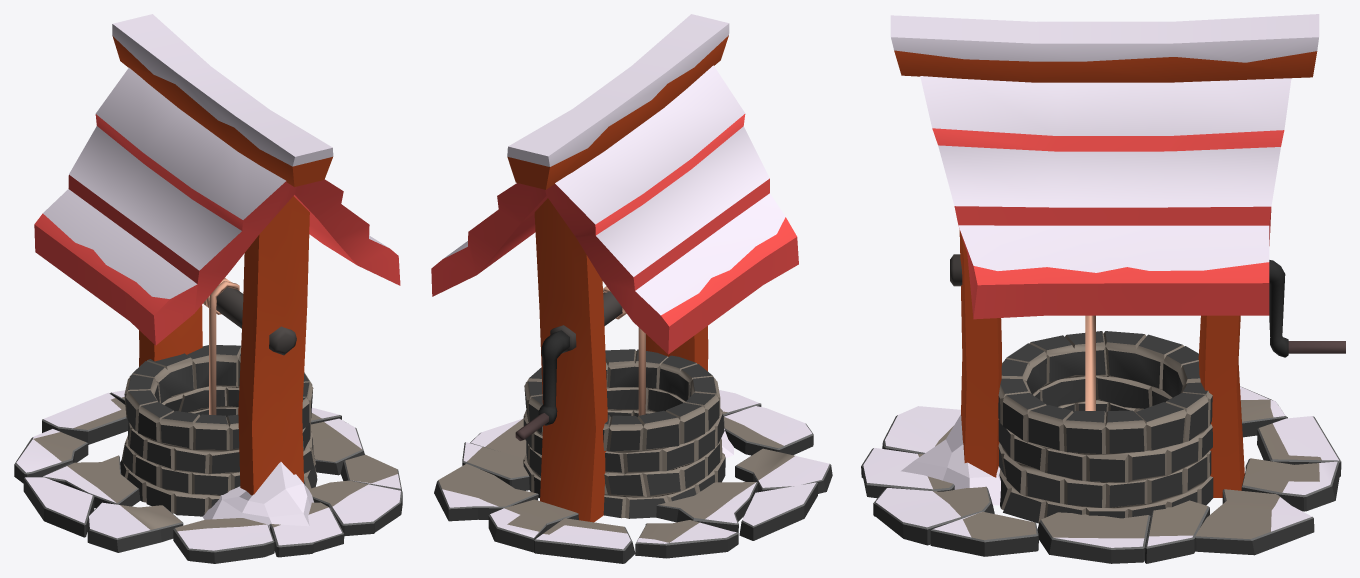
Rendered from waterhole1.glb.
The picture shows the model from 3 angles, left to right: view 1: azimuth 30°, elevation 25°; view 2: azimuth 150°, elevation 25°; view 3: azimuth 270°, elevation 25°; orthographic projection. The views are drawn at different scales.
Visible parts, largest first — view 1: Waterhole1_Medieval_0; view 2: Waterhole1_Medieval_0; view 3: Waterhole1_Medieval_0.
Part boxes in pixels (<box>): Waterhole1_Medieval_0: <box>14,14,402,563</box>; Waterhole1_Medieval_0: <box>431,14,832,563</box>; Waterhole1_Medieval_0: <box>861,14,1345,563</box>.
Size of the model in its own units: 1.16 by 1.36 by 1.3.
1 material, 1 textured.
